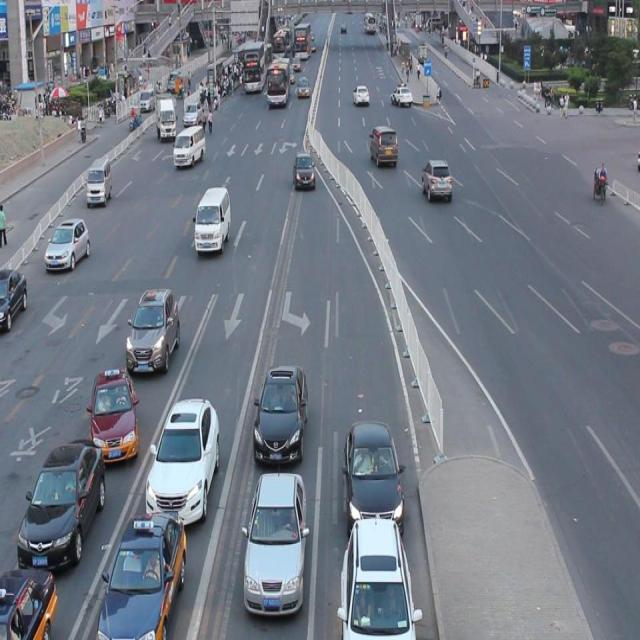car: (95, 505, 187, 640), (17, 434, 106, 571), (339, 511, 418, 640), (241, 464, 308, 615), (144, 393, 220, 524), (342, 412, 402, 528), (252, 359, 308, 464), (124, 282, 180, 375), (89, 363, 140, 464), (1, 564, 58, 640), (44, 216, 91, 271), (1, 268, 28, 329), (422, 158, 452, 202), (292, 151, 314, 192)
truck: (194, 186, 231, 253), (172, 125, 205, 168), (86, 156, 112, 206)
